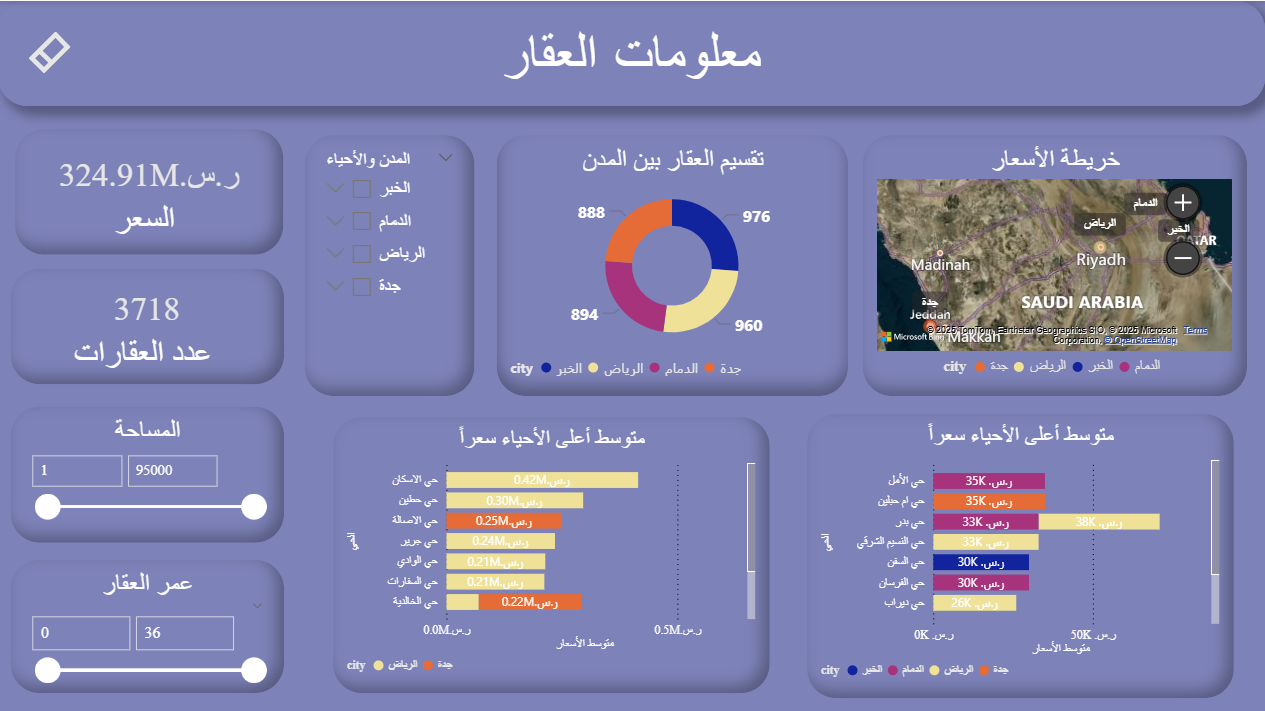

The page's visual inventory and layout, read from the dashboard file:
{"tool":"powerbi","page":{"name":"لوحة العقار ","canvas":[1280,720],"ordinal":0},"visuals":[{"type":"textbox","box":[0,0,1279.5,106],"z":0},{"type":"card","title":"السعر ","fields":{"Values":["Count(SA_Aqar1..observation ID)"]},"box":[12.1,269.5,277.1,118.1],"z":1000},{"type":"card","title":"السعر ","fields":{"Values":["Sum(SA_Aqar1..price)"]},"box":[16,128,272,128],"z":2000},{"type":"donutChart","title":"تقسيم العقار بين المدن     ","fields":{"Category":["SA_Aqar1..city"],"Y":["CountNonNull(SA_Aqar1..observation ID)"]},"box":[502.7,134.8,355.8,265],"z":3000},{"type":"map","title":"خريطة الأسعار ","fields":{"Size":["Sum(SA_Aqar1..price)"],"Series":["SA_Aqar1..city"],"Category":["SA_Aqar1..city"]},"box":[872.2,134.8,389.2,265],"z":4000},{"type":"slicer","title":"المساحة ","fields":{"Values":["SA_Aqar1..size"]},"box":[11.4,408.6,277.1,138.6],"z":5000},{"type":"slicer","title":"عمر العقار ","fields":{"Values":["SA_Aqar1..property_age"]},"box":[12.1,563.3,277.1,136.3],"z":6000},{"type":"slicer","fields":{"Values":["SA_Aqar1..city","SA_Aqar1..district"]},"box":[308.9,134.8,172.6,265],"z":7000},{"type":"barChart","title":"متوسط أعلى الأحياء سعراً","fields":{"Series":["SA_Aqar1..city"],"Category":["SA_Aqar1..district"],"Y":["Avg(SA_Aqar1..price)"]},"box":[337.7,419.4,442.1,280.1],"z":8000},{"type":"actionButton","box":[27.3,27.3,56,50],"z":10000},{"type":"barChart","title":"متوسط أعلى الأحياء سعراً","fields":{"Series":["SA_Aqar1..city"],"Category":["SA_Aqar1..district"],"Y":["Avg(SA_Aqar1..price)"]},"box":[816,416,432,288],"z":10001}]}

Visuals, with their boxes in screenshot pixels (x1, y1, x2, y2), scaled from the page's 1280x720 canvas onto the 1265x711 screenshot:
textbox: x1=0 y1=0 x2=1264 y2=105
"السعر " card: x1=12 y1=266 x2=286 y2=383
"السعر " card: x1=16 y1=126 x2=285 y2=253
"تقسيم العقار بين المدن     " donutChart: x1=497 y1=133 x2=848 y2=395
"خريطة الأسعار " map: x1=862 y1=133 x2=1247 y2=395
"المساحة " slicer: x1=11 y1=403 x2=285 y2=540
"عمر العقار " slicer: x1=12 y1=556 x2=286 y2=691
slicer - SA_Aqar1..city x SA_Aqar1..district: x1=305 y1=133 x2=476 y2=395
"متوسط أعلى الأحياء سعراً" barChart: x1=334 y1=414 x2=771 y2=691
actionButton: x1=27 y1=27 x2=82 y2=76
"متوسط أعلى الأحياء سعراً" barChart: x1=806 y1=411 x2=1233 y2=695
